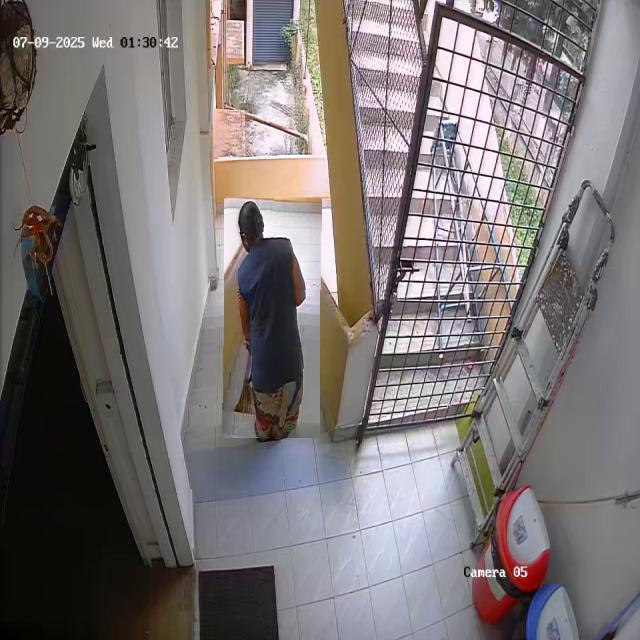person: (223, 198, 321, 438)
